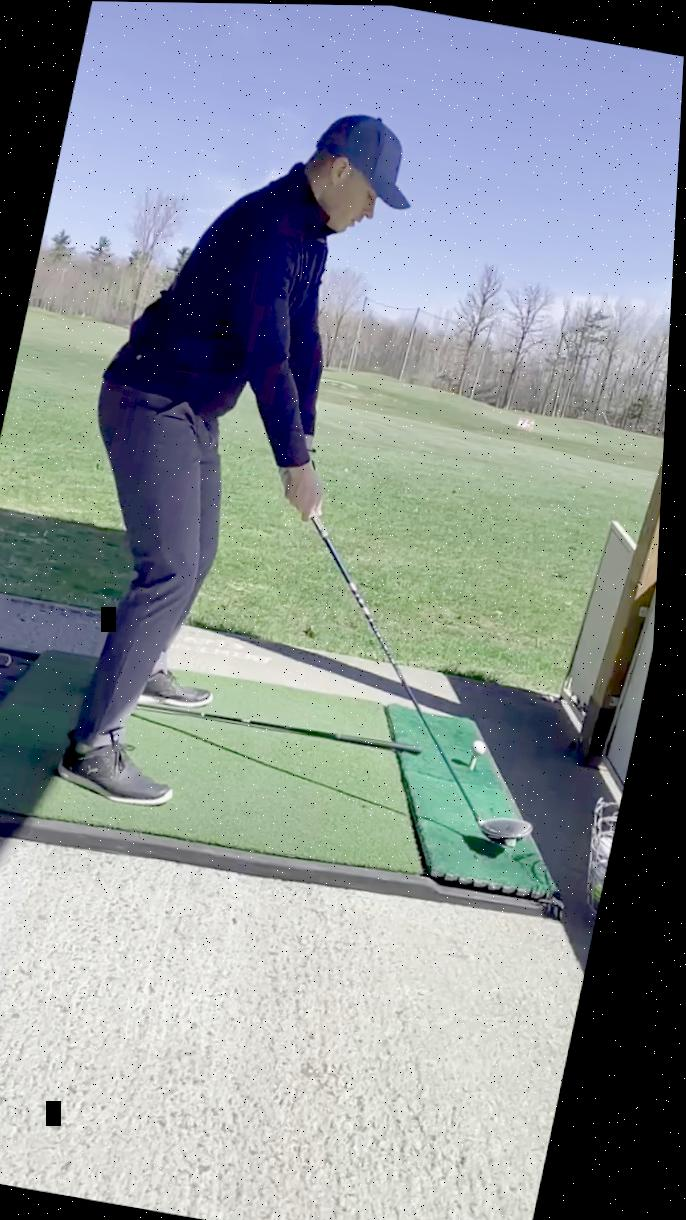ClubHead: (474, 799, 552, 852), (0, 644, 25, 679)
GolfBall: (476, 733, 499, 762)
